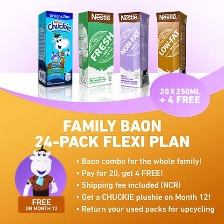carton: (34, 7, 77, 89), (74, 10, 115, 87), (117, 10, 154, 90), (156, 7, 195, 78)
